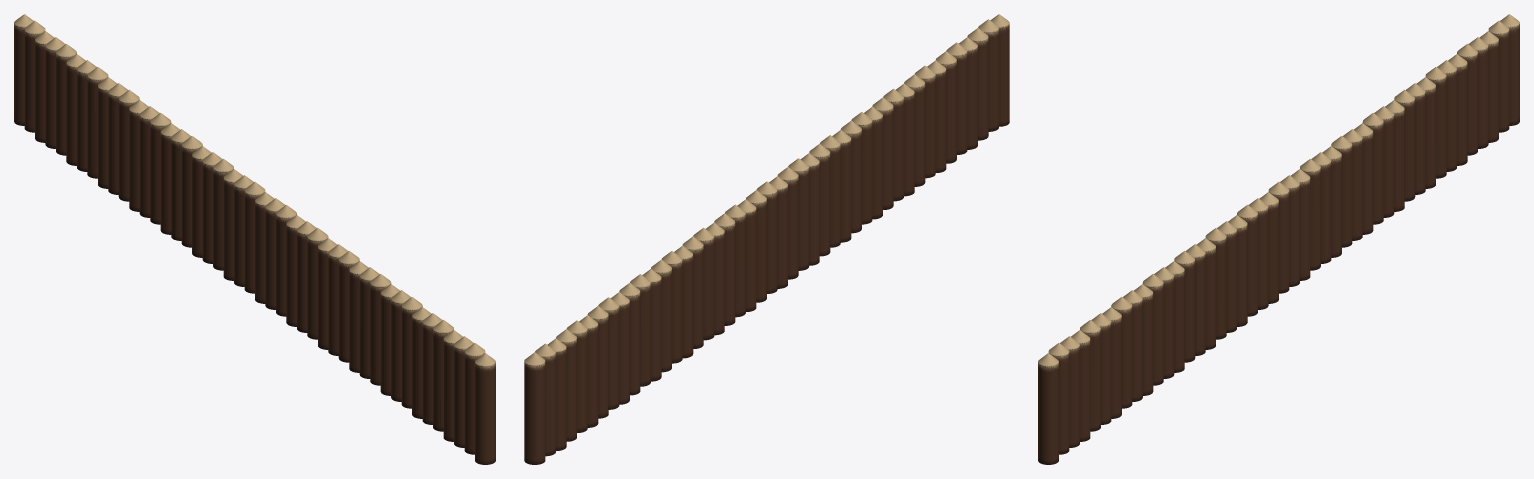
The model's file is LogFenceJoinFinal.glb.
3 views of the same model, side by side, from view 1: azimuth 30°, elevation 25°; view 2: azimuth 150°, elevation 25°; view 3: azimuth 330°, elevation 25° (orthographic).
Parts seen in each view (by area): view 1: Cylinder.001; view 2: Cylinder.001; view 3: Cylinder.001.
Part boxes in pixels (x1=…): Cylinder.001: x1=14, y1=14, x2=495, y2=464; Cylinder.001: x1=524, y1=14, x2=1009, y2=464; Cylinder.001: x1=1038, y1=14, x2=1519, y2=464.
Size of the model in its own units: 2 by 11.59 by 89.88.
3 materials, 3 textured.
